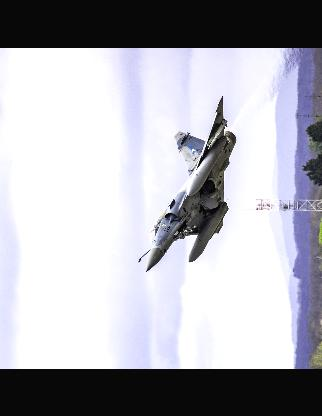Mirage2000: (137, 94, 235, 272)
